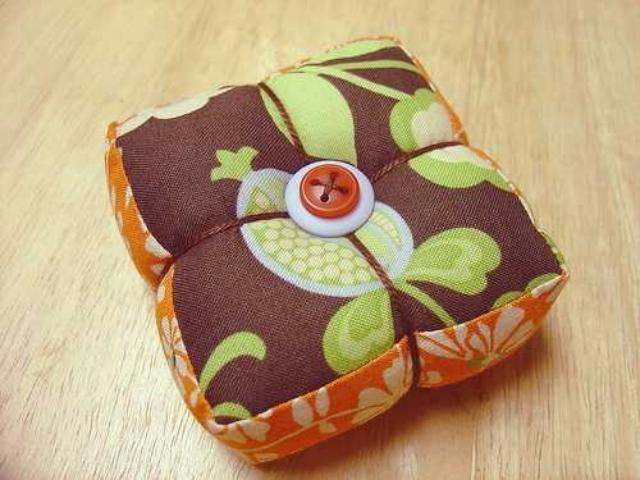pillow: (102, 32, 570, 464)
